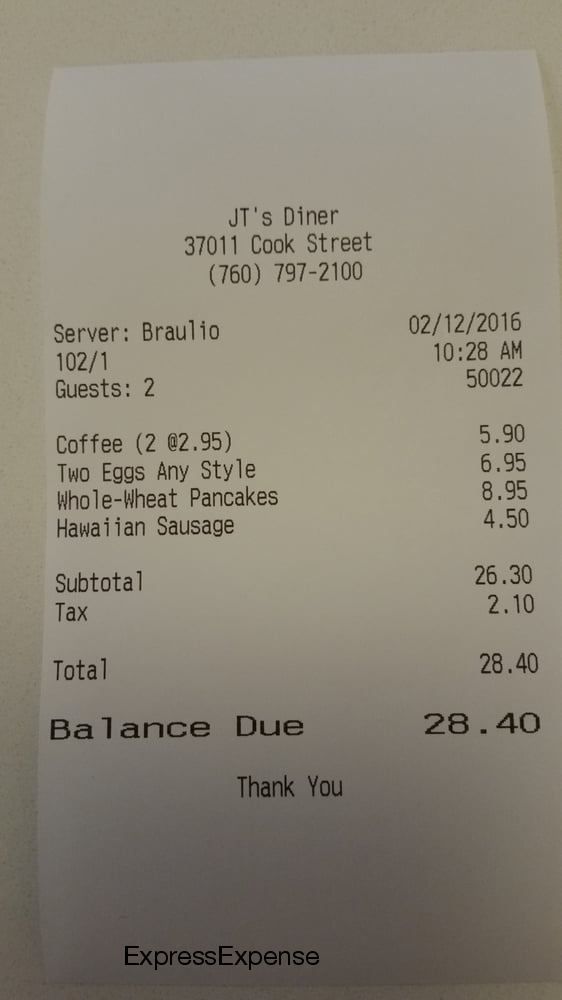Additional details: (235, 761, 355, 818)
Receipt: (34, 45, 562, 939)
Shop details: (38, 310, 562, 766), (159, 194, 409, 285)
